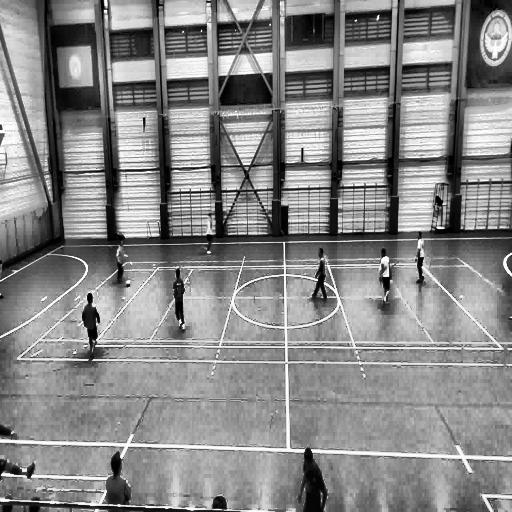ball: (125, 279, 132, 289)
player: (298, 448, 328, 510), (82, 292, 102, 358), (172, 268, 190, 333), (310, 246, 328, 301), (378, 248, 391, 308), (114, 238, 126, 282), (415, 232, 424, 283), (205, 213, 214, 254)
